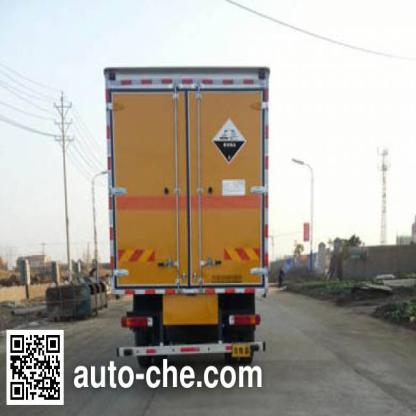normal-truck: (100, 55, 268, 353)
